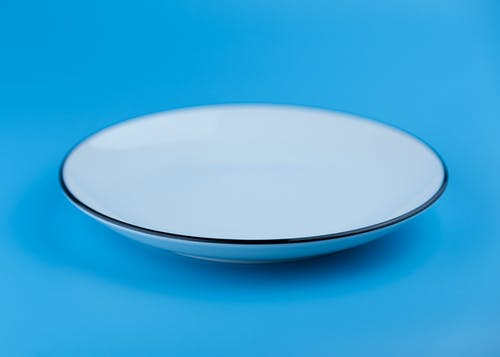plate: (55, 97, 451, 266)
